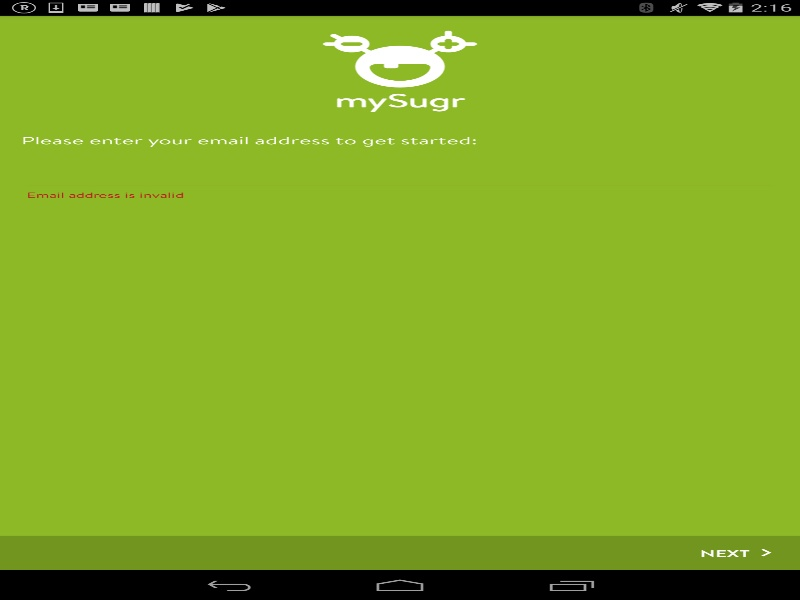Input: (21, 162, 778, 190)
